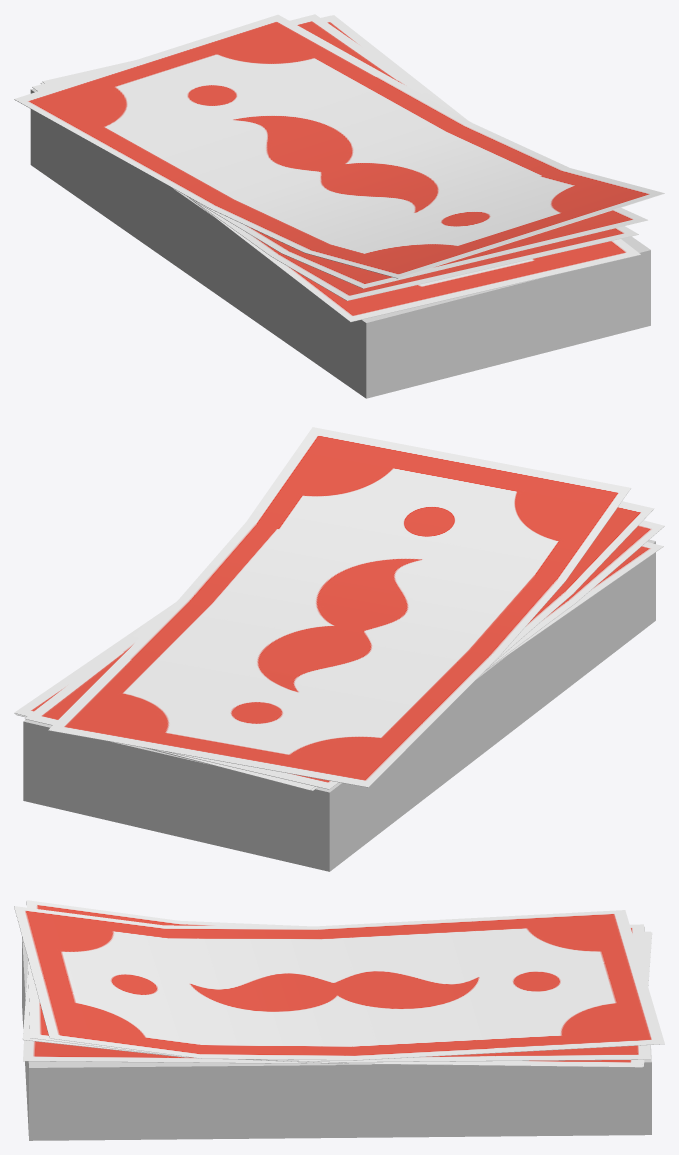
File: billetes.fbx
3 views of the same model, one above another, from view 1: azimuth 30°, elevation 25°; view 2: azimuth 150°, elevation 25°; view 3: azimuth 270°, elevation 25° (orthographic). The views are drawn at different scales.
Parts seen in each view (by area): view 1: billetes; view 2: billetes; view 3: billetes.
Part boxes in pixels (left/top/right/bottom): billetes: left=14, top=14, right=664, bottom=398; billetes: left=14, top=427, right=664, bottom=871; billetes: left=14, top=900, right=664, bottom=1140.
Size of the model in its own units: 88.1 by 28.36 by 146.
2 materials, 1 textured.
